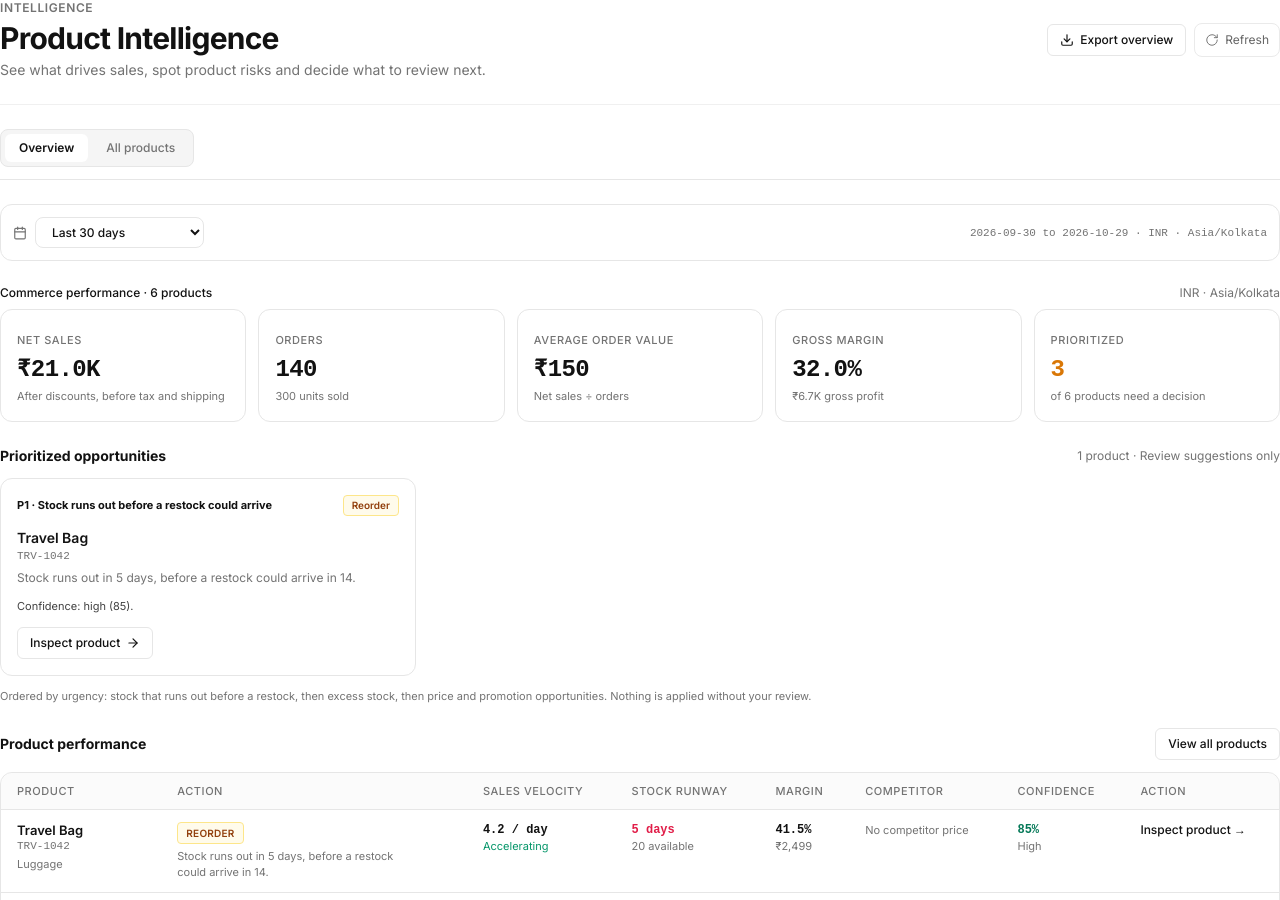
Product Intelligence overview on real data › the opportunities are the real top products, with the server's reasons, and Inspect opens that product's drawer
Click the button with aria-label "Inspect Travel Bag" at (85, 642), box [17,626,153,658]
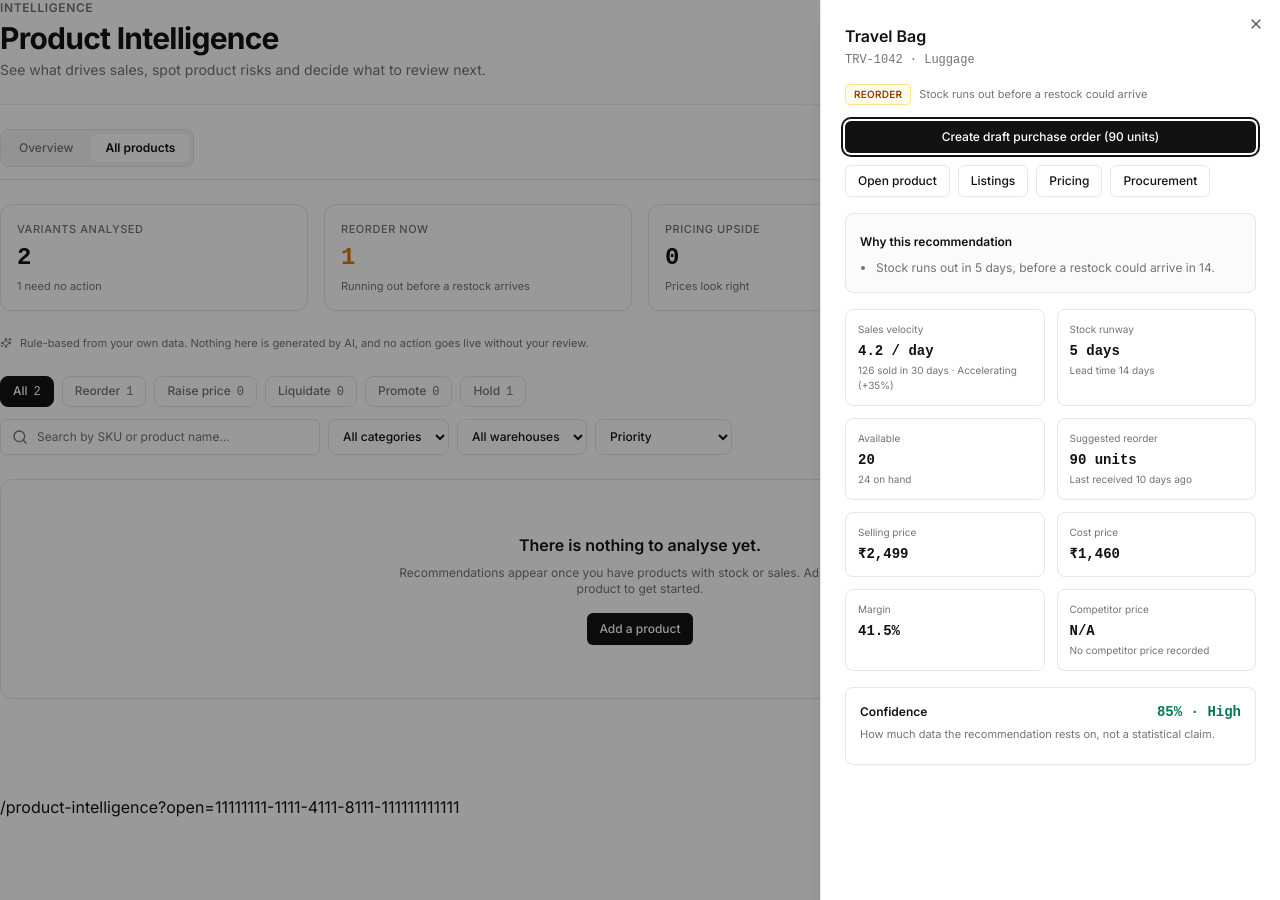
expect the dialog is shown: met, box [820,0,1279,899]
